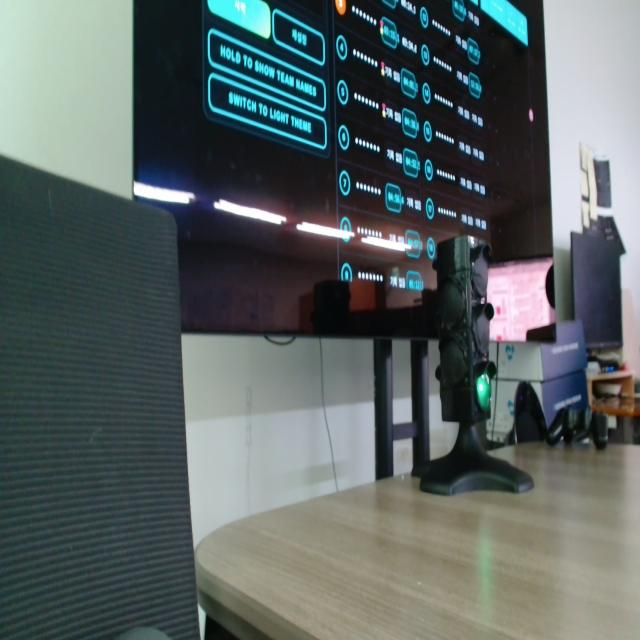green_light: (477, 374, 491, 411)
